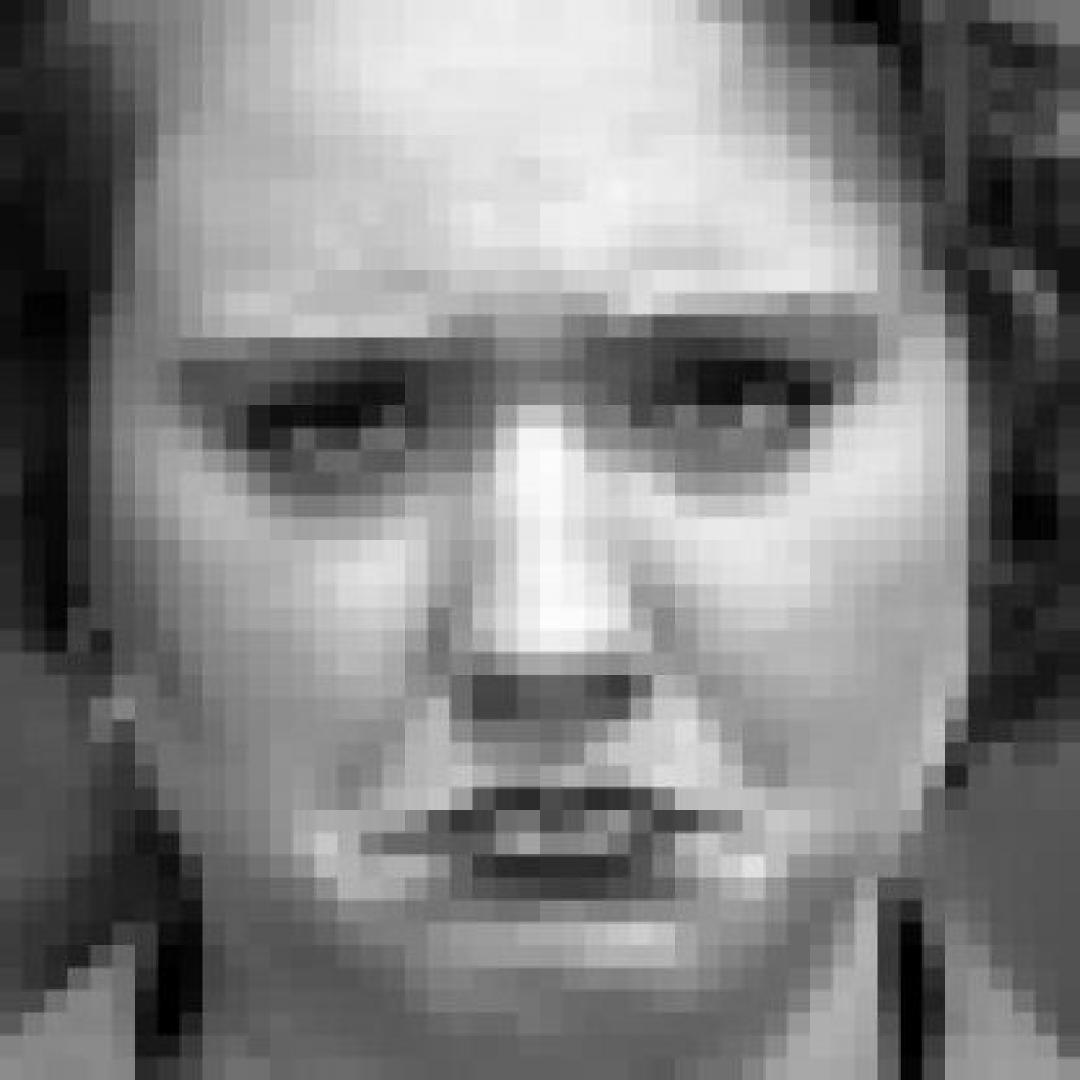sad: (0, 49, 1080, 1080)
